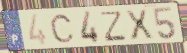4: (27, 13, 48, 47), (80, 10, 99, 45)
5: (152, 6, 178, 41)
C: (49, 13, 76, 44)
X: (123, 9, 156, 42)
Z: (100, 9, 127, 43)
